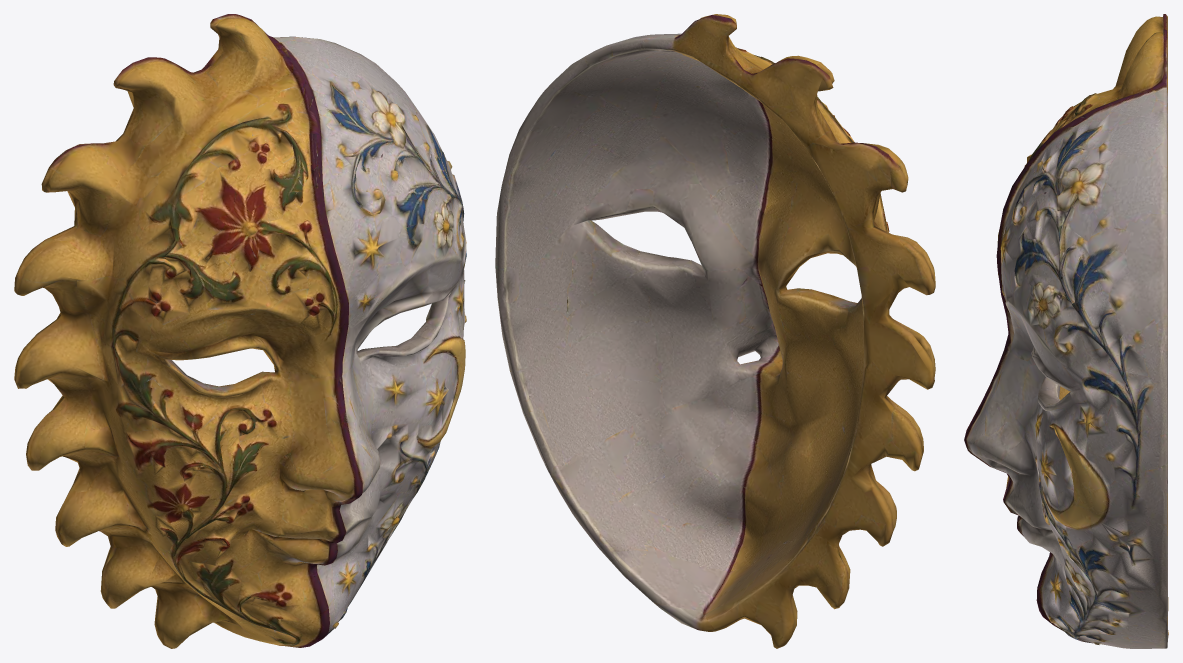
3 renders of one model, left to right at view 1: azimuth 30°, elevation 25°; view 2: azimuth 150°, elevation 25°; view 3: azimuth 270°, elevation 25°, orthographic. The views are drawn at different scales.
Bounding box in the file's own units: 1.4 × 1.9 × 0.5868.
1 material, 1 textured.
